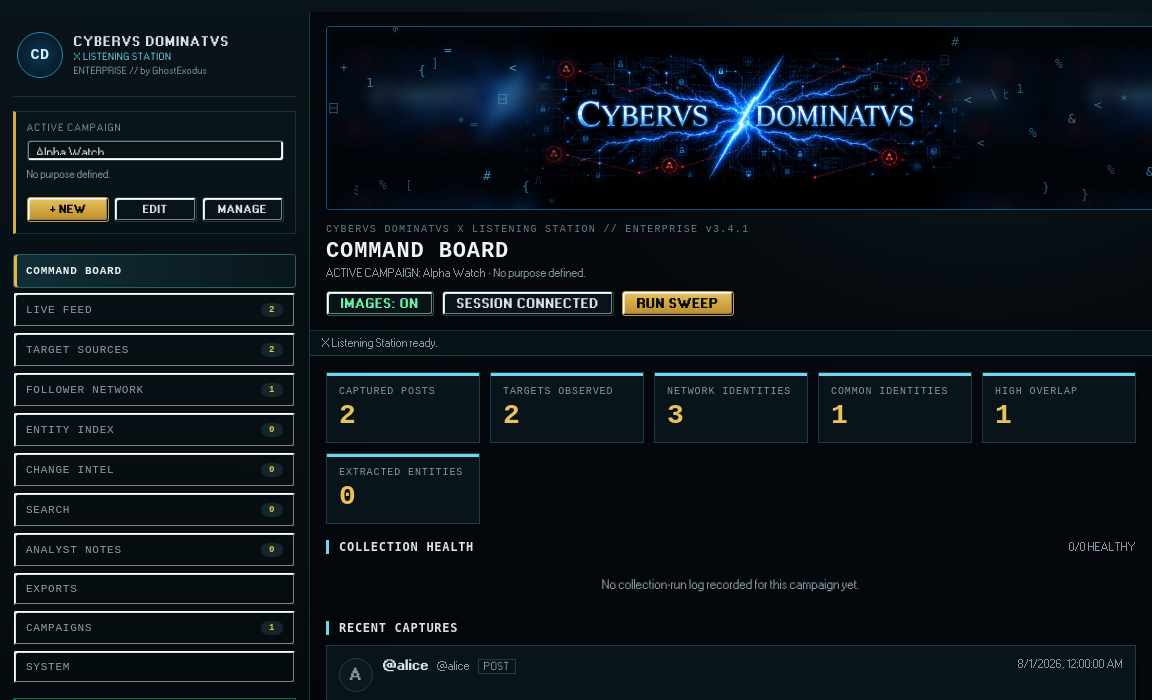
X Listening Station — Network tab non-graph panels (Task C2a) › renders the RECENT NETWORK DELTAS panel from the PERSISTED gated event stream, with the caveat
Click the button with class "xls-tab" showing "FOLLOWER NETWORK 1": (85, 390) top-left (13, 372), bottom-right (296, 408)
(page scrolled)
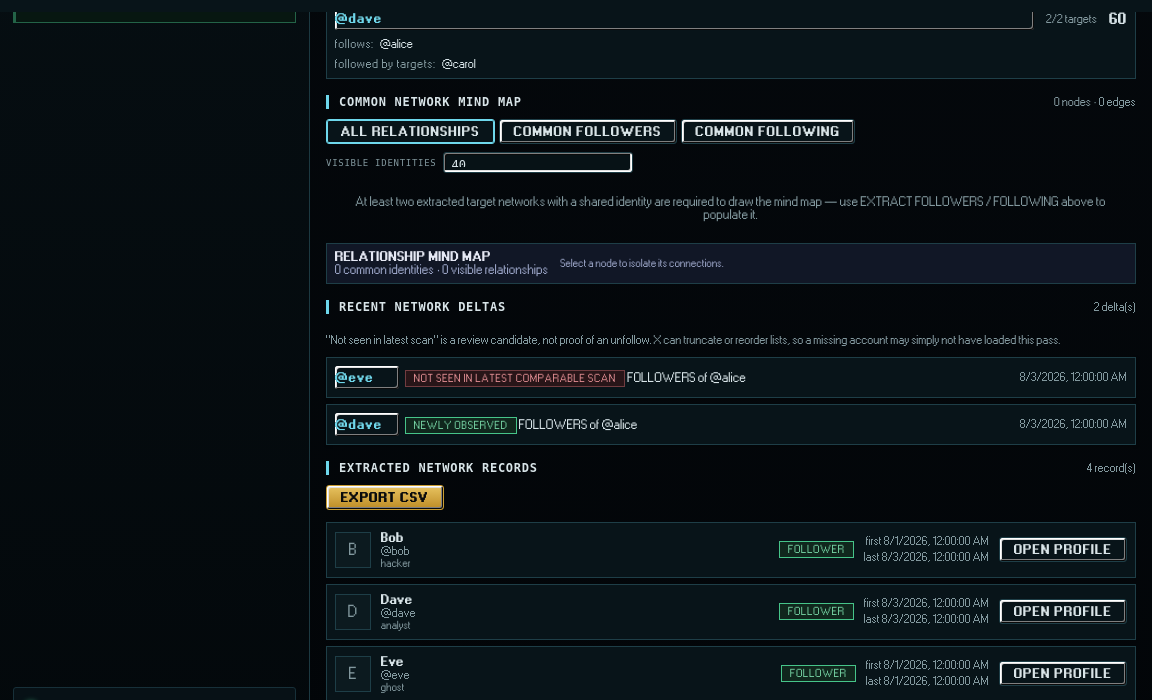
Result: the element with class "xls-panel" that starts with "RECENT NETWORK DELTAS" is shown at top-left (326, 300), bottom-right (1136, 445)
Result: the number of list items with class "xls-delta-row" is 2 at top-left (326, 357), bottom-right (1136, 398); top-left (326, 404), bottom-right (1136, 445)
